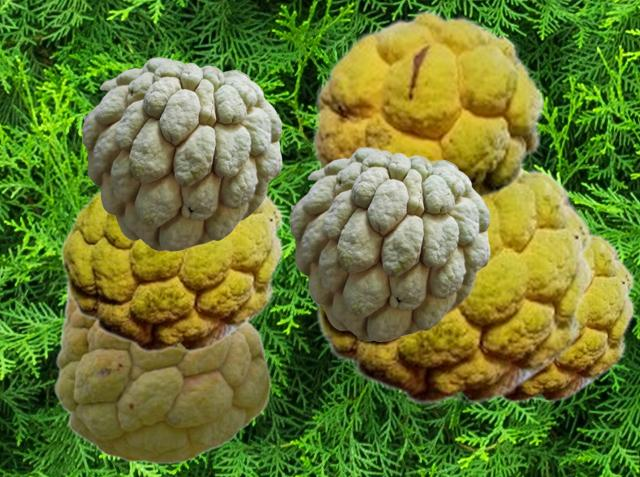atis: (308, 164, 592, 404), (311, 9, 544, 200), (81, 57, 281, 250), (289, 147, 489, 340), (53, 288, 270, 463), (59, 188, 283, 352), (502, 231, 634, 402)
